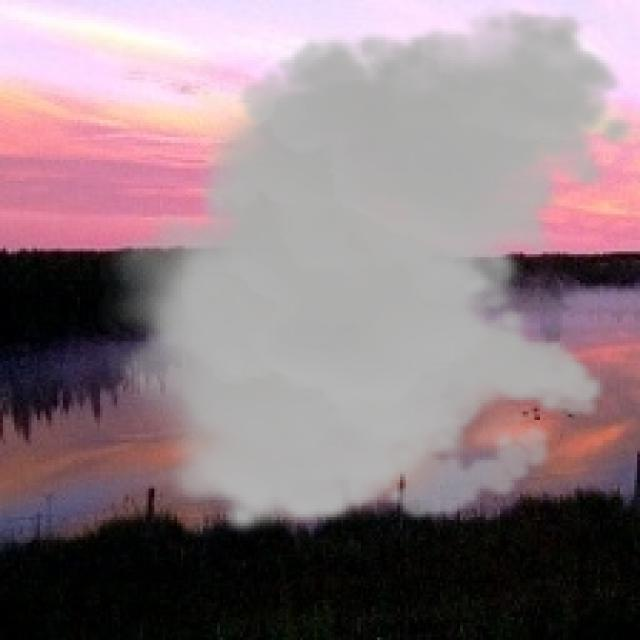Smoke: (97, 6, 637, 540)
